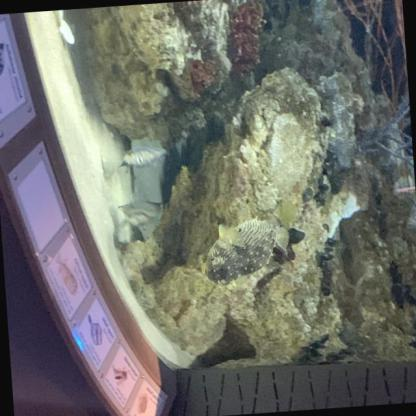fish: (200, 214, 292, 287), (116, 198, 165, 242), (115, 143, 168, 169)
